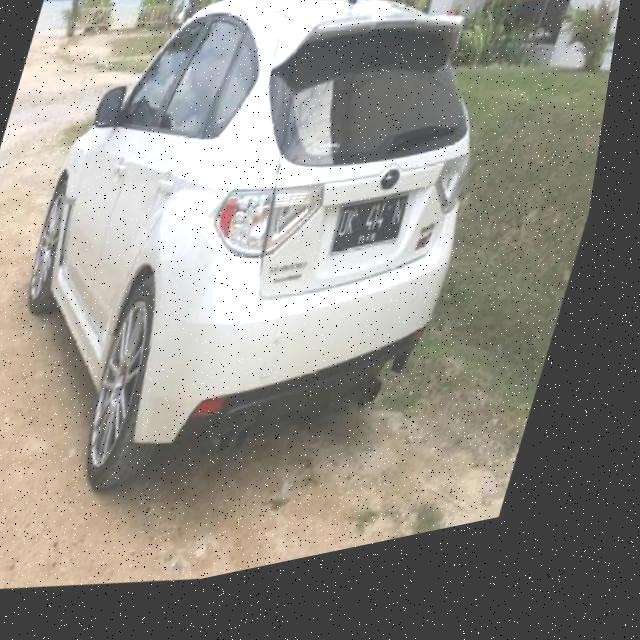license_plate: (336, 201, 422, 283)
